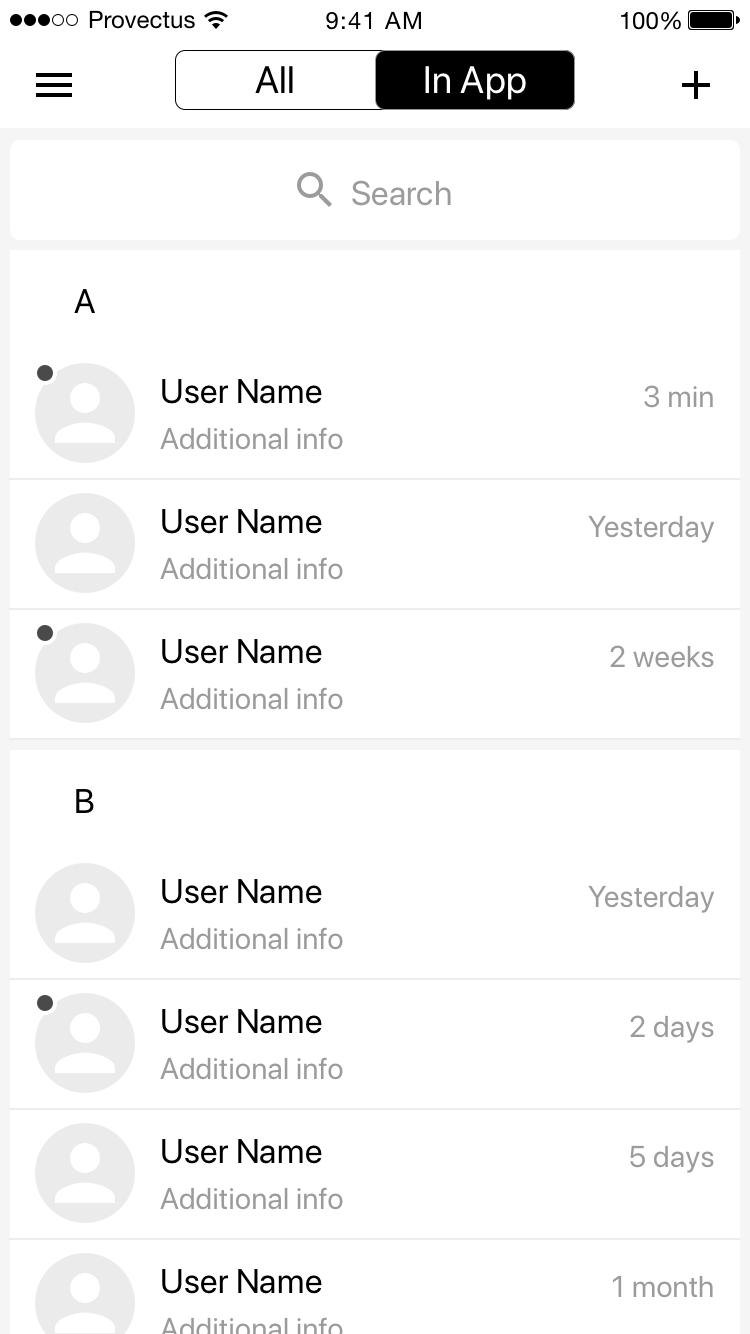EditText: (9, 140, 742, 242)
Icon: (31, 361, 137, 463), (30, 990, 134, 1093), (32, 861, 136, 962), (33, 1121, 136, 1222), (33, 621, 135, 722), (33, 490, 133, 592), (32, 1251, 136, 1334), (296, 172, 333, 209), (681, 70, 711, 101), (36, 73, 73, 98)
Text: (158, 1264, 324, 1296), (158, 684, 344, 712), (158, 1055, 345, 1082), (158, 554, 344, 581), (158, 1135, 324, 1165), (159, 635, 323, 665), (160, 875, 324, 905), (158, 925, 345, 951), (159, 1186, 345, 1212), (159, 1007, 324, 1035), (585, 511, 716, 545), (162, 509, 322, 536), (587, 881, 716, 914), (160, 428, 343, 450), (162, 380, 322, 405), (163, 1312, 344, 1333), (608, 643, 716, 669), (611, 1272, 714, 1299), (628, 1012, 714, 1044), (628, 1142, 714, 1174), (352, 181, 452, 208), (643, 381, 715, 410), (73, 787, 97, 816), (75, 290, 98, 318)
TextButton: (175, 50, 381, 112), (375, 49, 576, 111)
UpperTaskBar: (1, 1, 750, 32)
